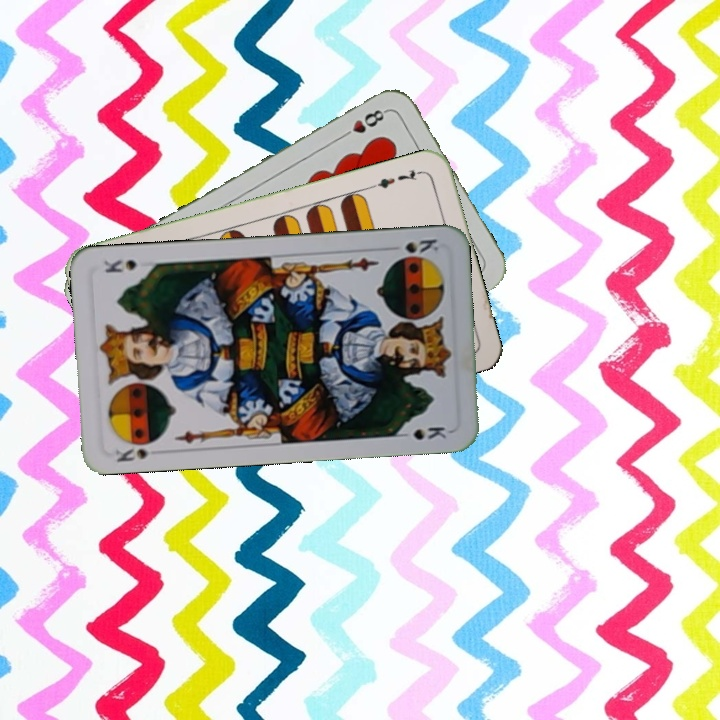E7: (368, 165, 426, 191)
H8: (337, 105, 390, 141)
SK: (111, 444, 165, 465), (401, 235, 441, 256)
